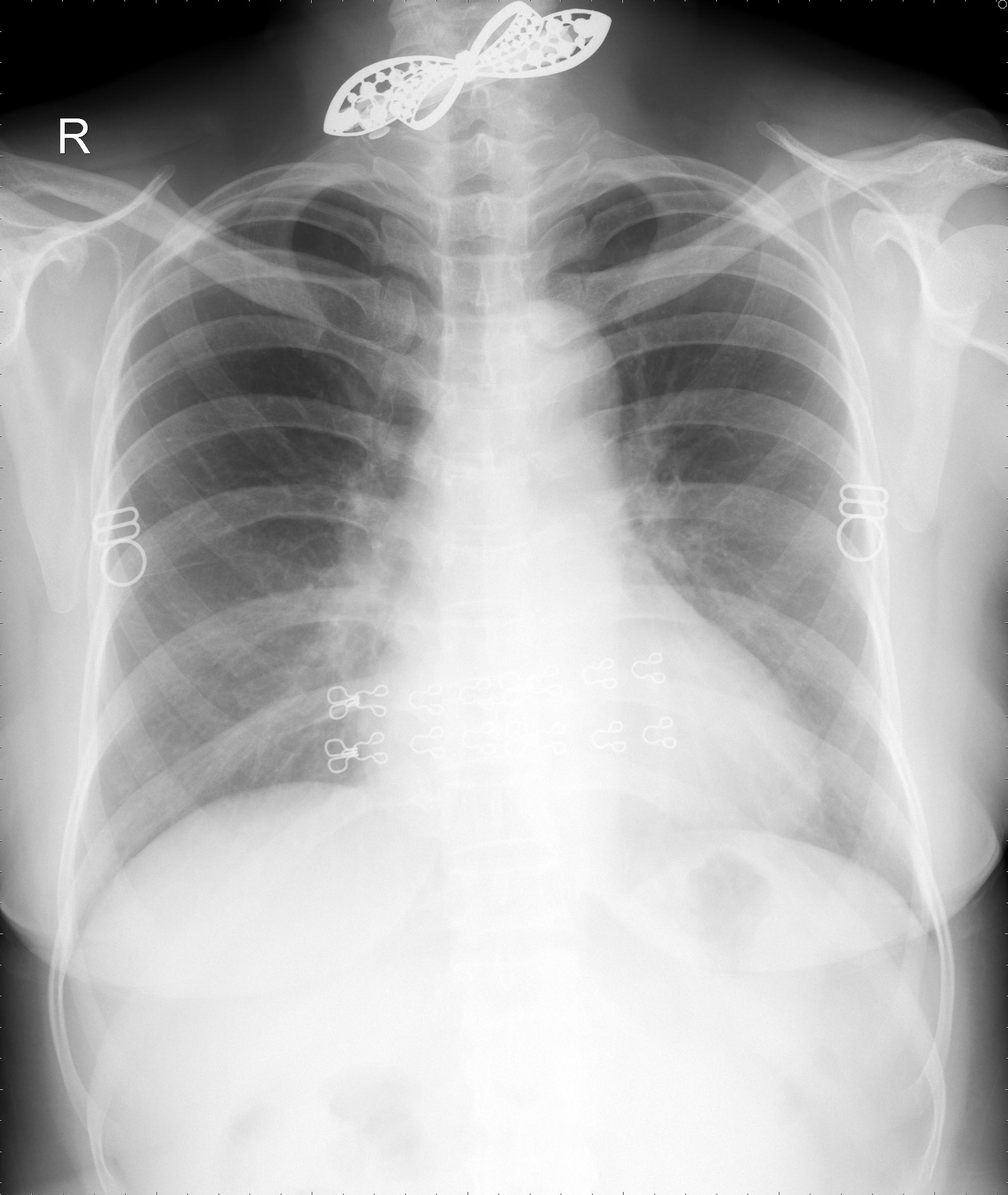Aortic enlargement: (486, 294, 626, 443)
Cardiomegaly: (358, 677, 820, 839)
